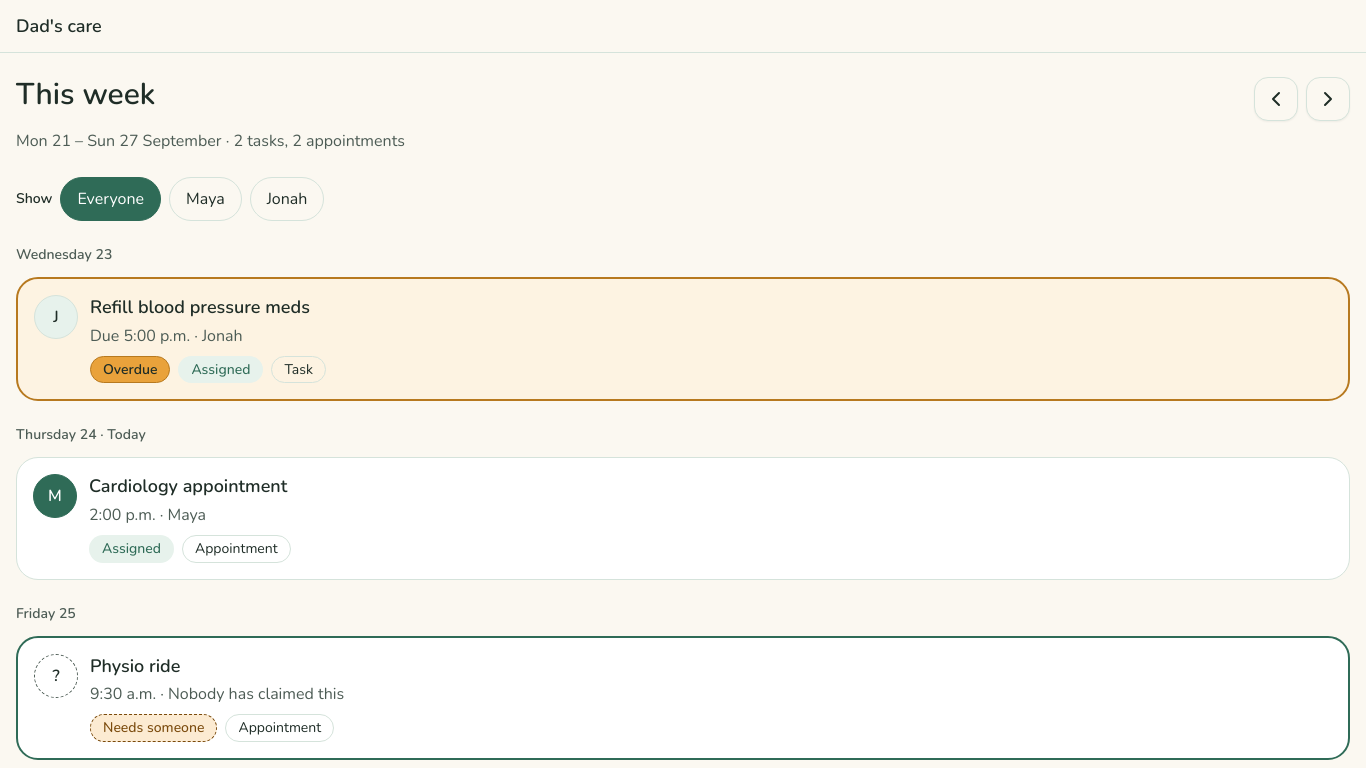
Test: filters to one member: what they own or have been asked to do
Click the button "Maya": (205,199) [169, 177, 242, 221]
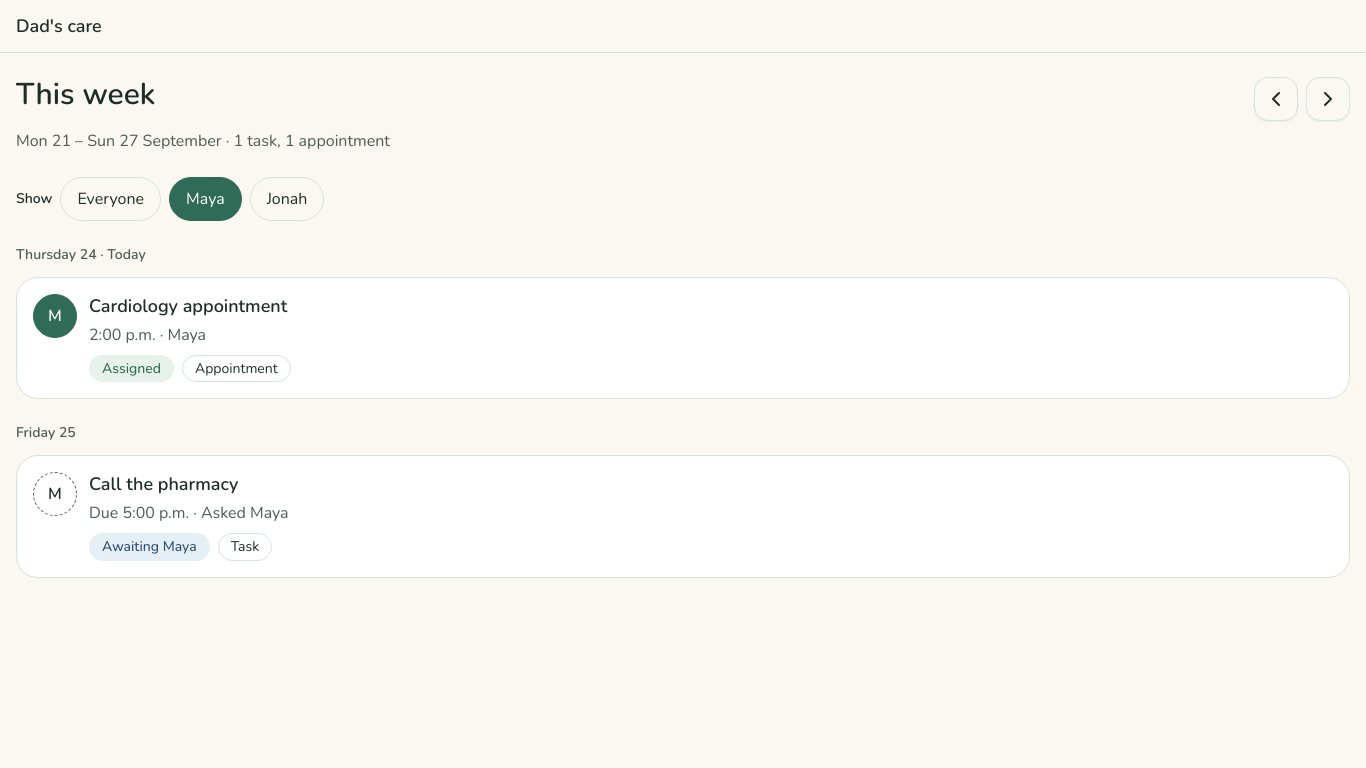
Check: the text "Mon 21 – Sun 27 September · 1 task, 1 appointment" is shown, box [16, 130, 390, 152]
Click the button "Everyone": (111,199) [60, 177, 161, 221]
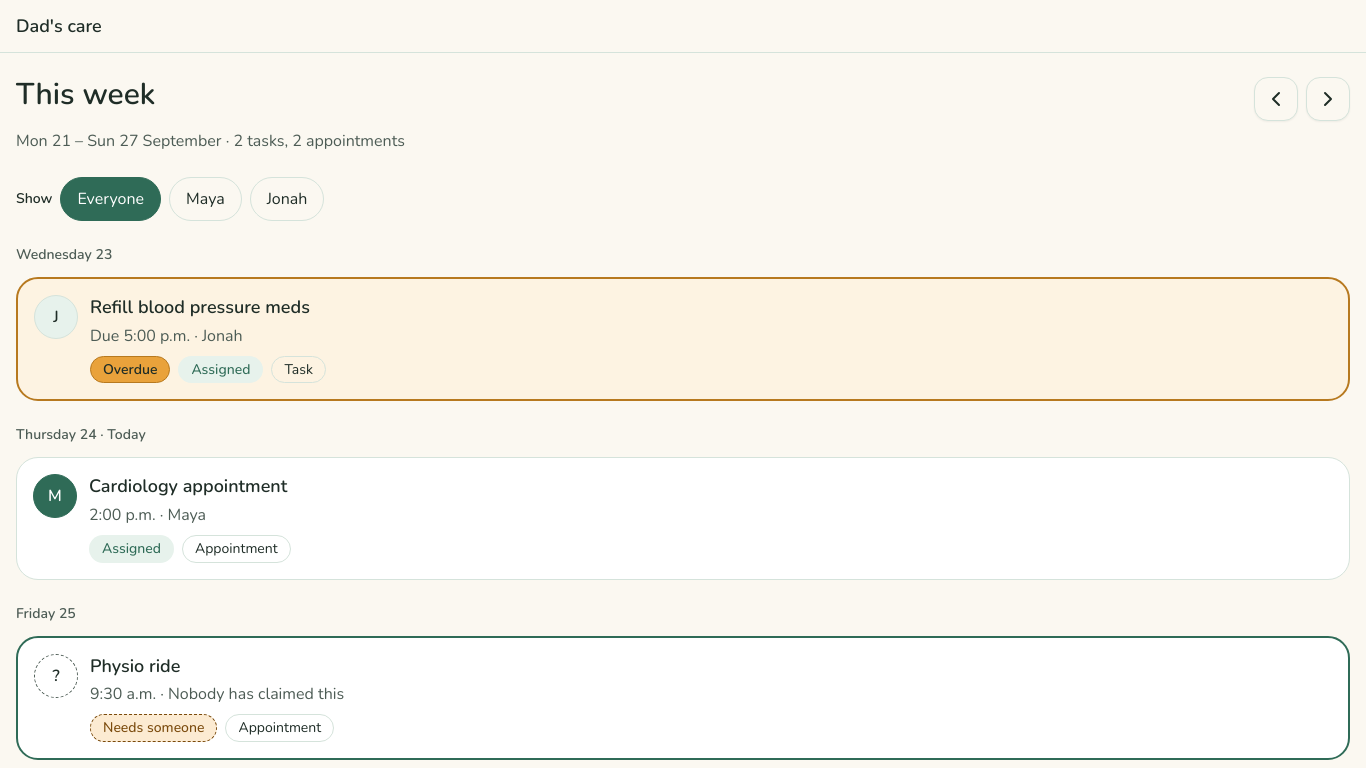
Check: the number of links is 4
